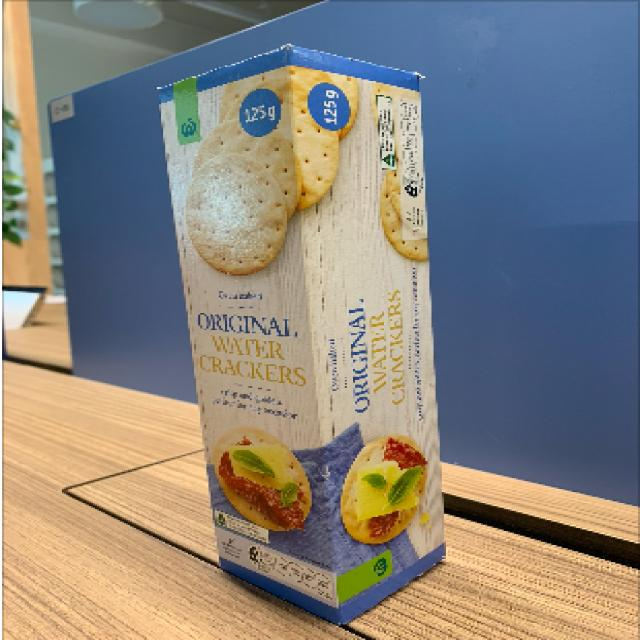object_name: (169, 64, 458, 586)
